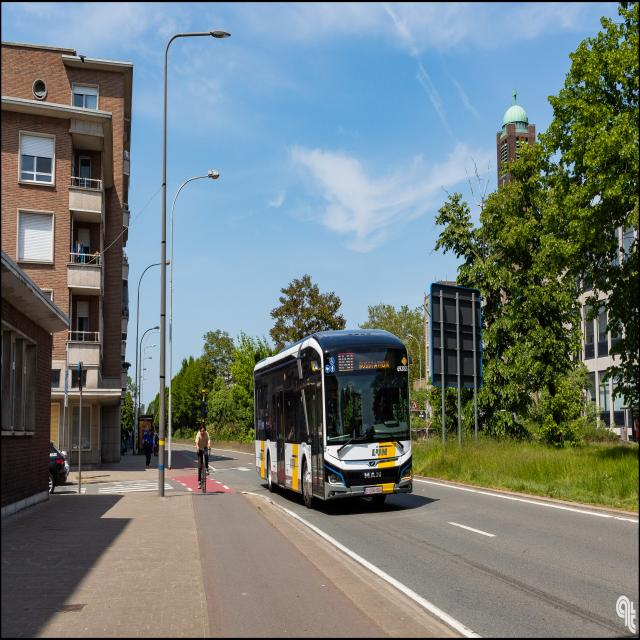bus-number: (338, 352, 353, 370)
